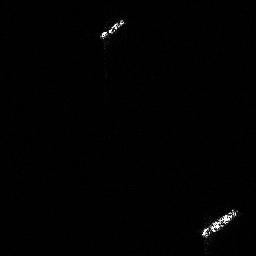ship: (198, 204, 242, 241), (97, 17, 127, 41)
